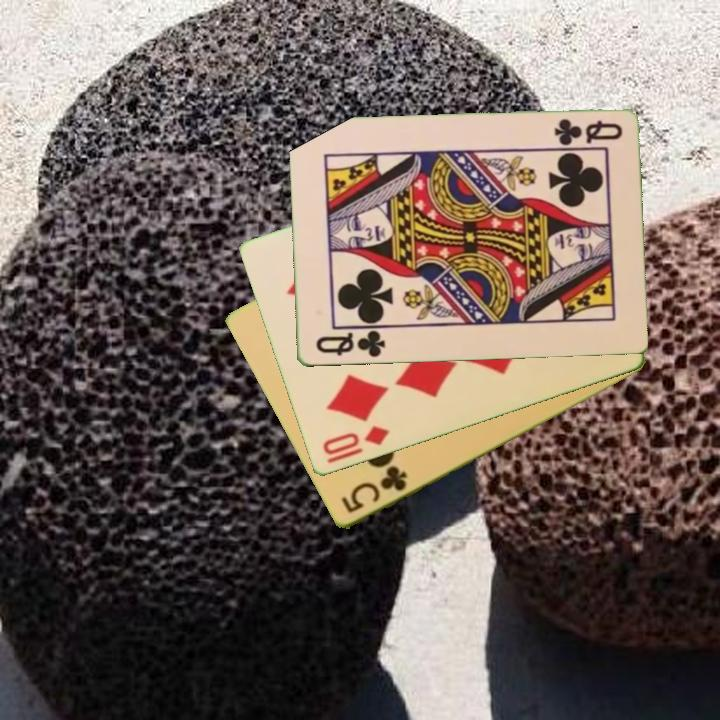10d: (318, 421, 392, 459)
5c: (337, 462, 410, 517)
Qc: (312, 327, 388, 361), (550, 115, 625, 148)
